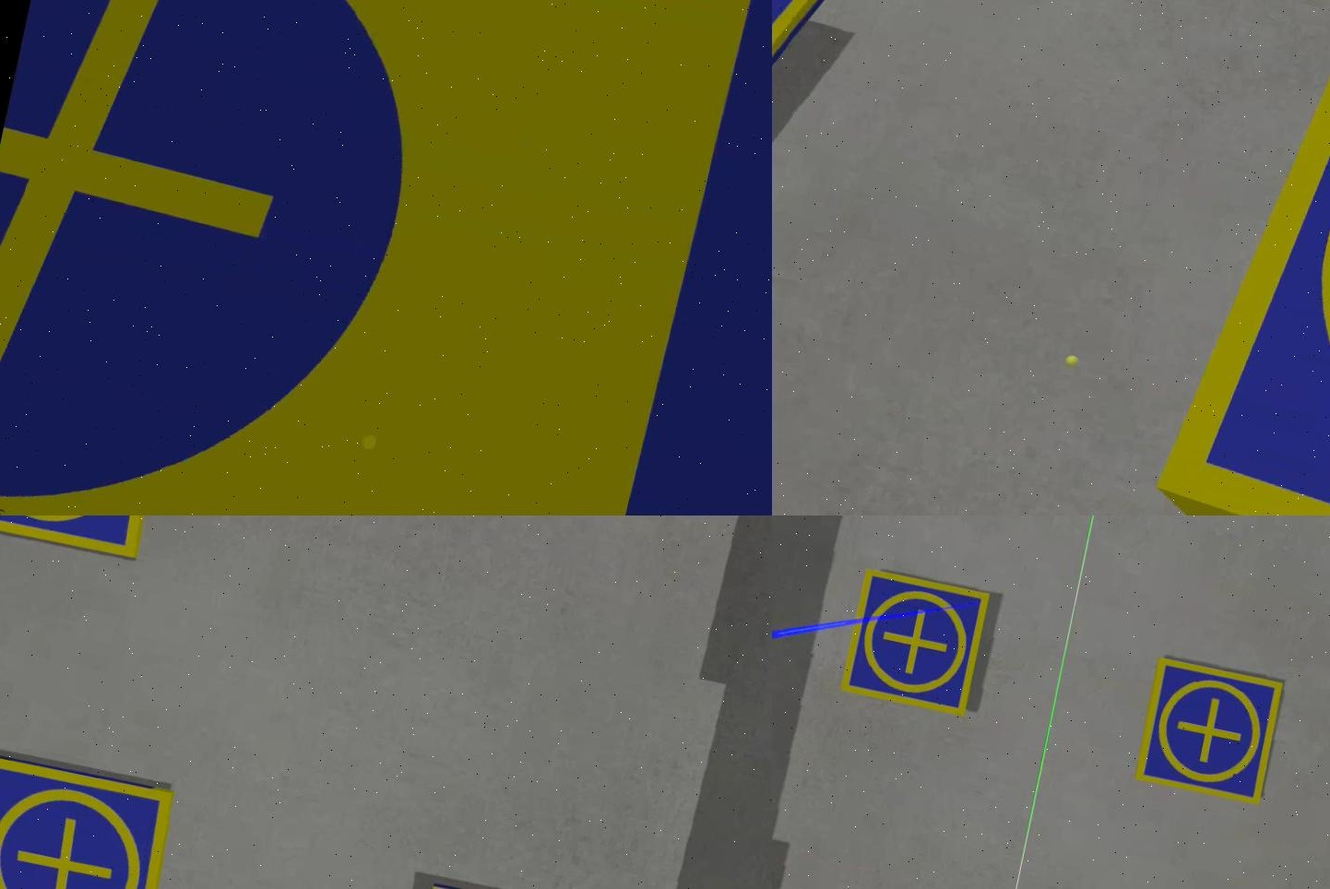large_base: (0, 1, 771, 516)
small_base: (1137, 1, 1328, 516), (0, 750, 180, 889), (837, 564, 992, 719), (1129, 658, 1284, 810)
